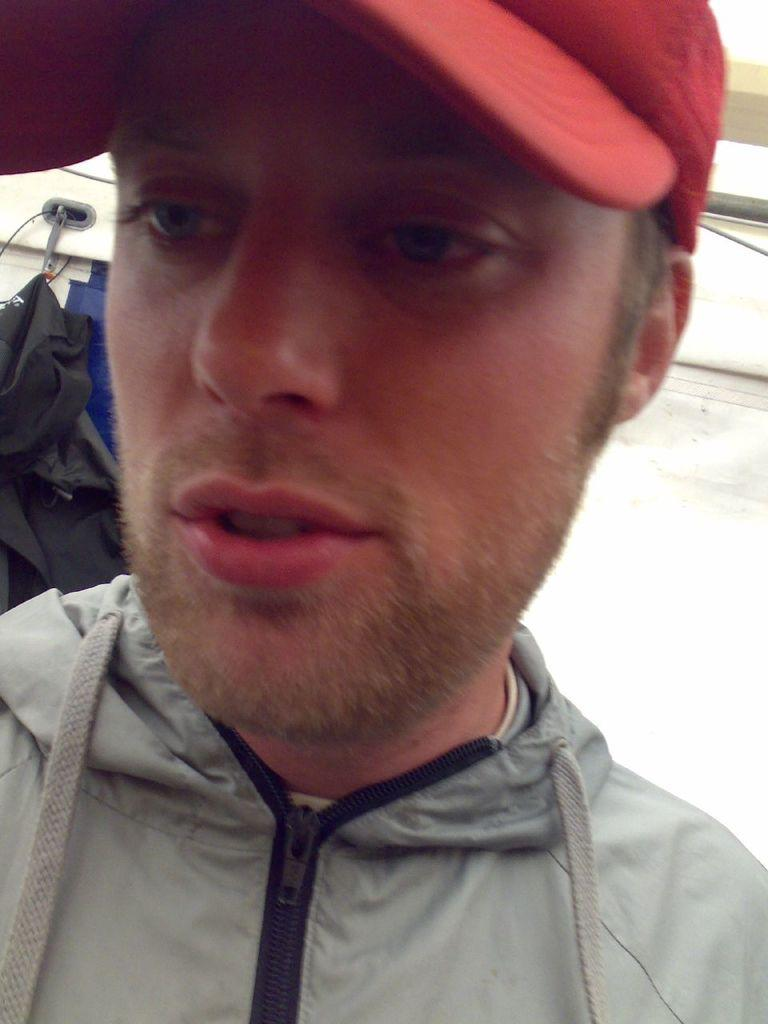Hat: (0, 0, 733, 256)
